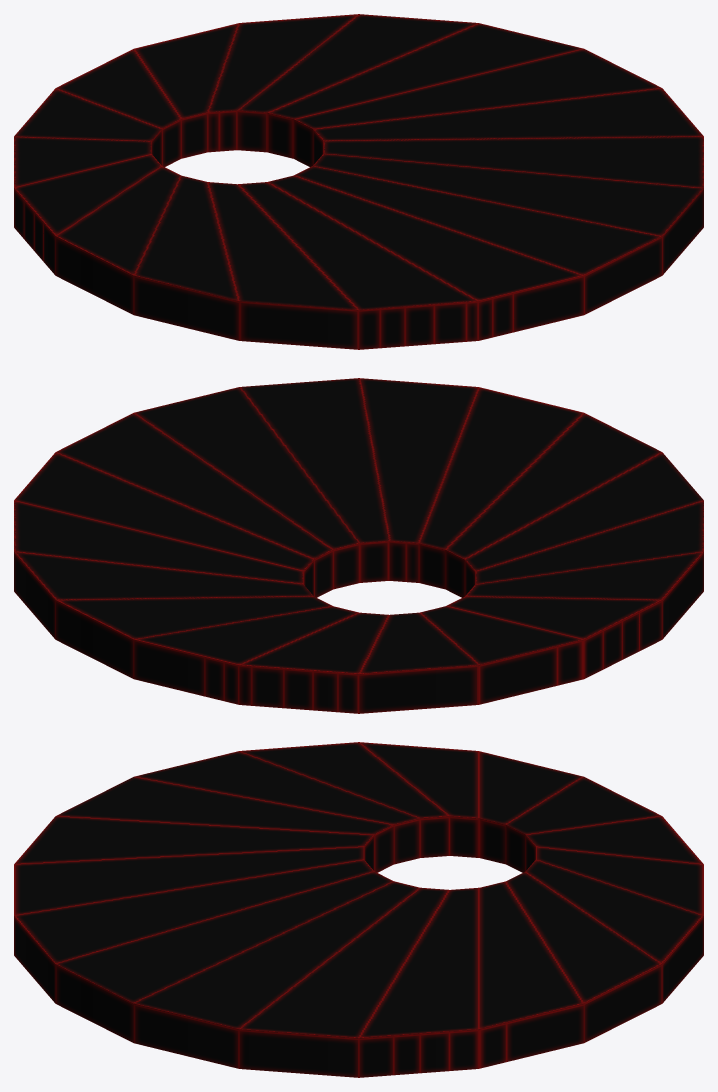
The model's file is honkey.FBX.
The picture shows the model from 3 angles, top to bottom: view 1: azimuth 30°, elevation 25°; view 2: azimuth 150°, elevation 25°; view 3: azimuth 270°, elevation 25°; orthographic projection.
Parts seen in each view (by area): view 1: Cylinder001; view 2: Cylinder001; view 3: Cylinder001.
Part boxes in pixels (<box>): Cylinder001: <box>14,14,703,349</box>; Cylinder001: <box>14,378,703,713</box>; Cylinder001: <box>14,742,703,1077</box>.
Bounding box in the file's own units: 78.74 × 4.92 × 77.54.
1 material, 1 textured.
